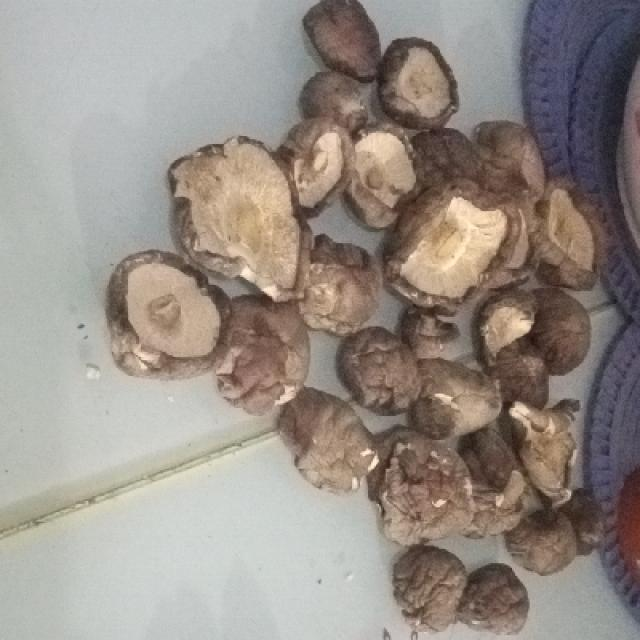Lentinus edodes: (165, 137, 309, 306), (388, 191, 527, 313), (105, 251, 235, 374), (214, 294, 312, 418), (377, 422, 471, 549), (481, 291, 591, 396), (280, 383, 378, 491), (300, 233, 380, 337), (535, 178, 604, 289), (509, 399, 581, 501), (348, 122, 418, 224), (295, 0, 379, 83), (285, 117, 352, 221), (383, 33, 459, 124), (397, 540, 465, 632), (288, 68, 370, 136), (509, 515, 585, 575), (460, 569, 529, 632)
